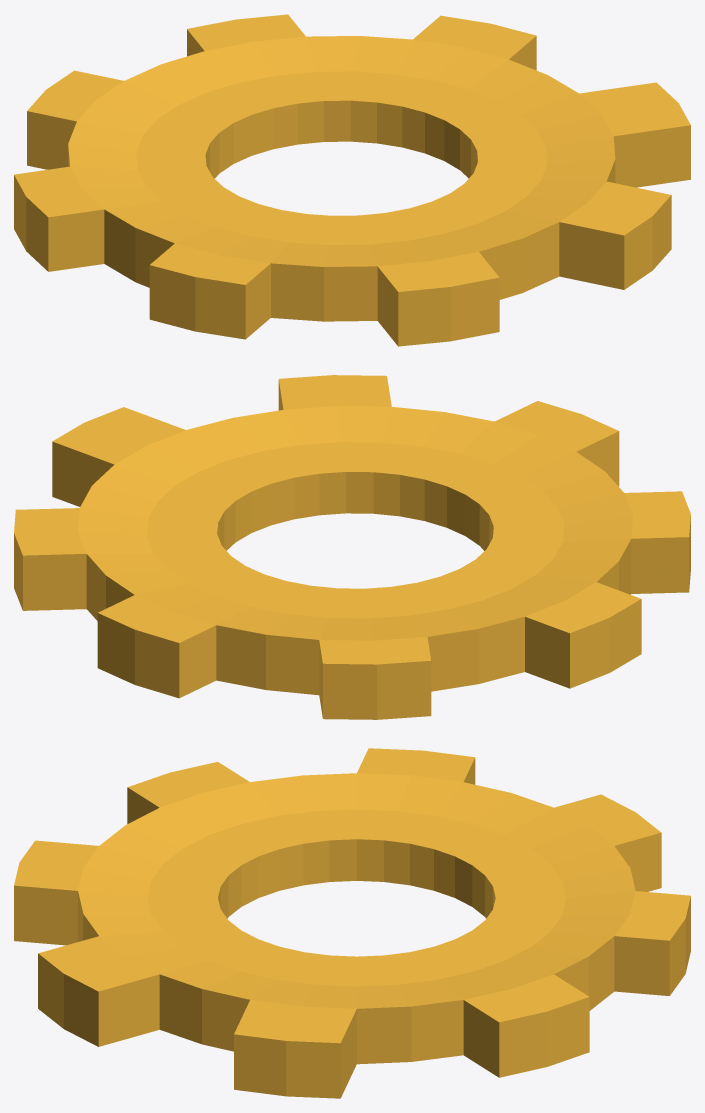
Rendered from gear.glb.
The picture shows the model from 3 angles, top to bottom: view 1: azimuth 30°, elevation 25°; view 2: azimuth 150°, elevation 25°; view 3: azimuth 270°, elevation 25°; orthographic projection.
Parts seen in each view (by area): view 1: Circle; view 2: Circle; view 3: Circle.
Boxes of the visible parts, x1,y1,x2,y2 form: Circle: (14,14,690,346); Circle: (14,375,690,719); Circle: (14,748,690,1098).
Bounding box in the file's own units: 0.0672 × 0.00589 × 0.0652.
